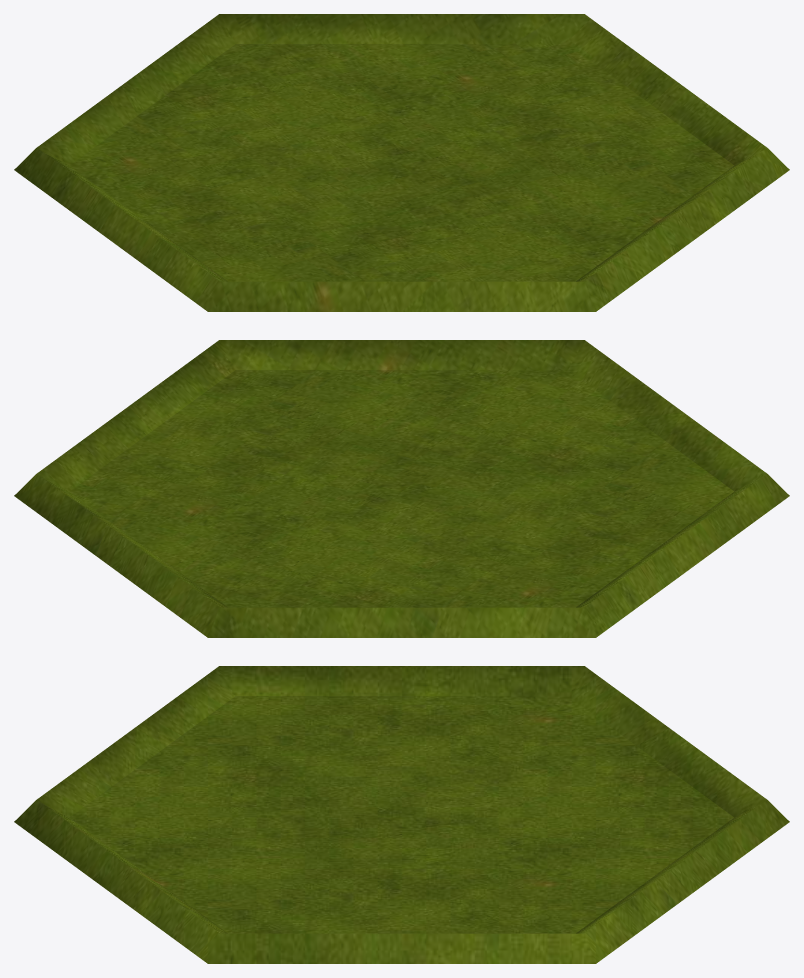
The model's file is plains.glb.
The picture shows the model from 3 angles, top to bottom: view 1: azimuth 30°, elevation 25°; view 2: azimuth 150°, elevation 25°; view 3: azimuth 270°, elevation 25°; orthographic projection.
Visible parts, largest first — view 1: HexagonTile.017; view 2: HexagonTile.017; view 3: HexagonTile.017.
Part boxes in pixels (<box>): HexagonTile.017: <box>14,14,789,311</box>; HexagonTile.017: <box>14,340,789,637</box>; HexagonTile.017: <box>14,666,789,963</box>.
Size of the model in its own units: 1.73 by 0.0631 by 2.
1 material, 1 textured.
